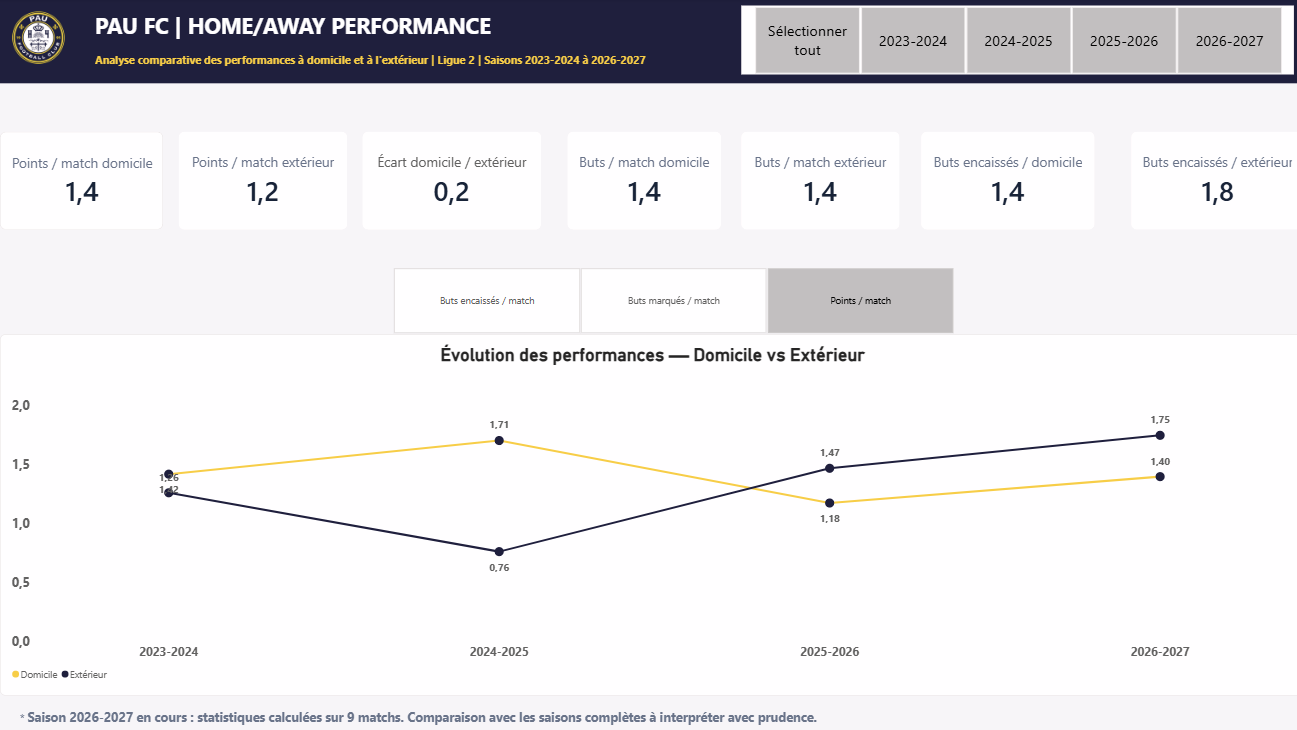

The dashboard page shown, as its layout file describes it:
{"tool":"powerbi","page":{"name":"04 - Playing Style & Home-Away","canvas":[1920,1080],"ordinal":3},"visuals":[{"type":"shape","box":[0,0,1920,125.8],"z":0},{"type":"textbox","box":[140,0,905,143.3],"z":1000},{"type":"slicer","fields":{"Values":["dim_season.season"]},"box":[1091.7,11.7,815,101.7],"z":2000},{"type":"cardVisual","fields":{"Data":["analytics fct_match_performance.Home Points Per Match"]},"box":[0,197.1,240.2,144.1],"z":3000},{"type":"cardVisual","fields":{"Data":["analytics fct_match_performance.Away Points Per Match"]},"box":[263.4,197.1,248.5,144.1],"z":4000},{"type":"cardVisual","fields":{"Data":["analytics fct_match_performance.Home Advantage"]},"box":[533.4,197.1,263.4,144.1],"z":5000},{"type":"cardVisual","fields":{"Data":["analytics fct_match_performance.Home Goals Per Match"]},"box":[834.9,197.1,227,144.1],"z":6000},{"type":"cardVisual","fields":{"Data":["analytics fct_match_performance.Away Goals Per Match"]},"box":[1091.7,197.1,233.6,144.1],"z":7000},{"type":"lineChart","title":"Évolution des performances — Domicile vs Extérieur","fields":{"Category":["dim_season.season"],"Y":["analytics fct_match_performance.Dynamic Home Metric","analytics fct_match_performance.Dynamic Away Metric"]},"box":[0,495.3,1920,531.8],"z":8000},{"type":"image","box":[17.2,19,80,80],"z":9000},{"type":"textbox","box":[29.8,1027.1,1416.4,53],"z":10000},{"type":"cardVisual","fields":{"Data":["analytics fct_match_performance.Home Goals Conceded Per Match"]},"box":[1356.8,197.1,255.1,144.1],"z":11000},{"type":"cardVisual","fields":{"Data":["analytics fct_match_performance.Away Goals Conceded Per Match"]},"box":[1664.9,197.1,255.1,144.1],"z":12000},{"type":"slicer","fields":{"Values":["Selection Indicateur.Indicateur"]},"box":[559.9,395.9,863.1,99.4],"z":13000}]}

Visuals, with their boxes in screenshot pixels (x1, y1, x2, y2), scaled from the page's 1920x1080 canvas onto the 1297x730 screenshot:
shape: 0,0,1296,85
textbox: 95,0,706,97
slicer - dim_season.season: 737,8,1288,77
cardVisual - analytics fct_match_performance.Home Points Per Match: 0,133,162,231
cardVisual - analytics fct_match_performance.Away Points Per Match: 178,133,346,231
cardVisual - analytics fct_match_performance.Home Advantage: 360,133,538,231
cardVisual - analytics fct_match_performance.Home Goals Per Match: 564,133,717,231
cardVisual - analytics fct_match_performance.Away Goals Per Match: 737,133,895,231
"Évolution des performances — Domicile vs Extérieur" lineChart: 0,335,1296,694
image: 12,13,66,67
textbox: 20,694,977,729
cardVisual - analytics fct_match_performance.Home Goals Conceded Per Match: 917,133,1089,231
cardVisual - analytics fct_match_performance.Away Goals Conceded Per Match: 1125,133,1296,231
slicer - Selection Indicateur.Indicateur: 378,268,961,335
